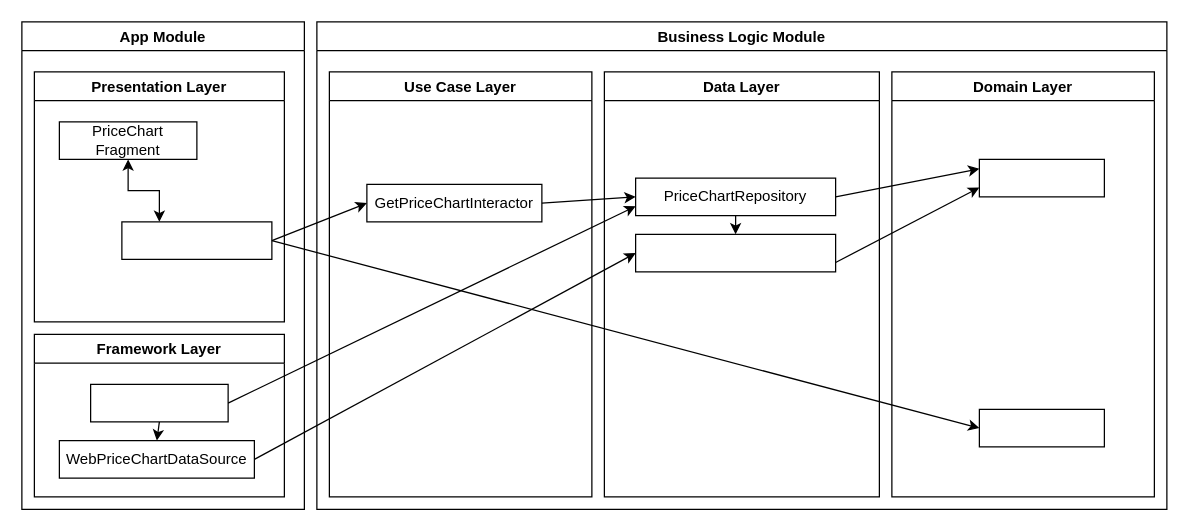
Image size: 1189x531. Some labels were removed from this diagram. Each missing label, with the centre of its shape:
"Application" belongs at pixel 158 402.
"Model" belongs at pixel 1041 177.
"Price/Data Formatters" belongs at pixel 1041 427.
"PriceChartDataSource" belongs at pixel 735 252.
"PriceChatViewModel" belongs at pixel 196 240.
